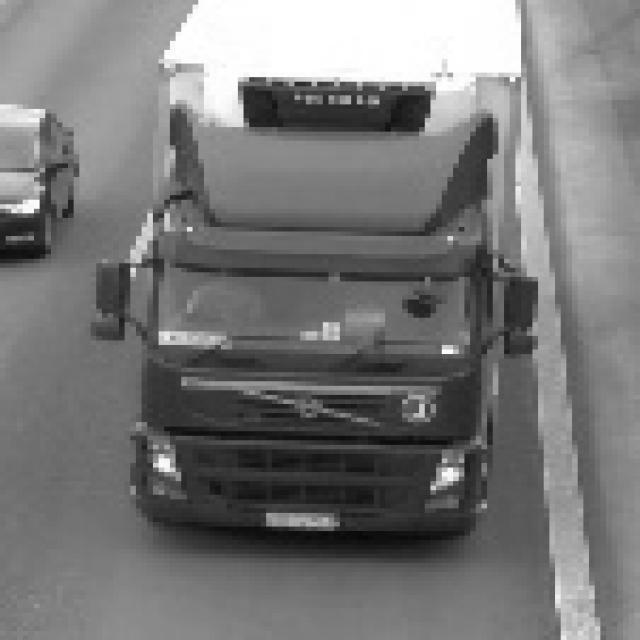truck: (85, 115, 539, 541)
